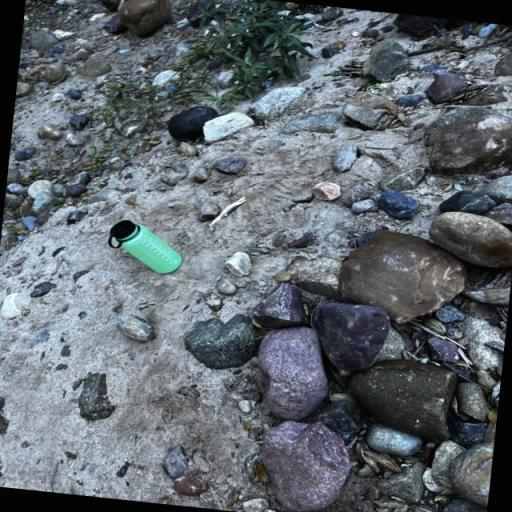bottle: (105, 218, 185, 275)
